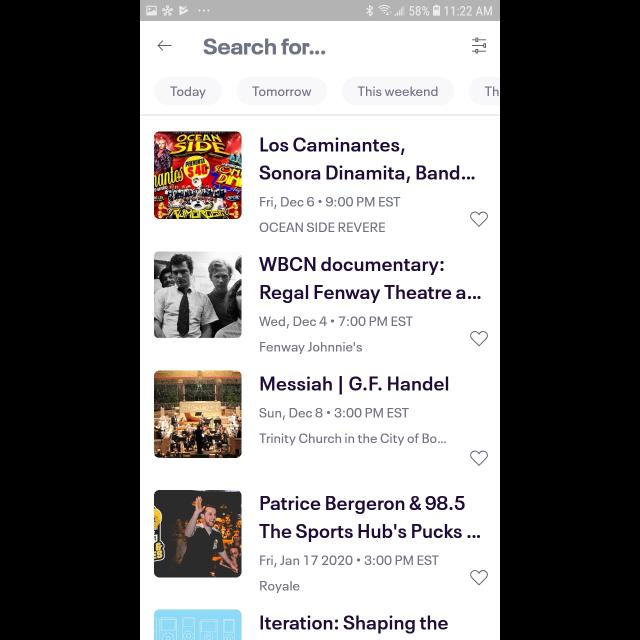icon: (470, 212, 488, 228), (470, 331, 488, 347), (470, 450, 488, 466), (470, 570, 488, 586), (472, 38, 486, 54), (158, 40, 172, 51)
image: (154, 132, 242, 220), (154, 370, 242, 458), (154, 490, 242, 578), (154, 252, 242, 338), (154, 608, 242, 640)
text: (259, 256, 481, 304), (260, 496, 480, 542), (260, 137, 474, 183), (258, 408, 446, 446), (260, 555, 440, 593), (259, 316, 413, 354), (260, 197, 400, 233), (261, 376, 449, 396), (260, 614, 448, 634), (204, 38, 326, 56)
textbutton: (342, 77, 454, 105), (236, 77, 328, 105), (155, 77, 223, 105), (468, 78, 499, 106)
uppertaskbar: (140, 1, 500, 22)
